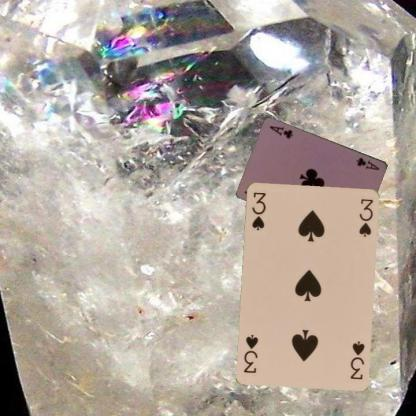3s: (347, 338, 366, 380), (249, 190, 267, 231)
Ac: (353, 154, 380, 171)
